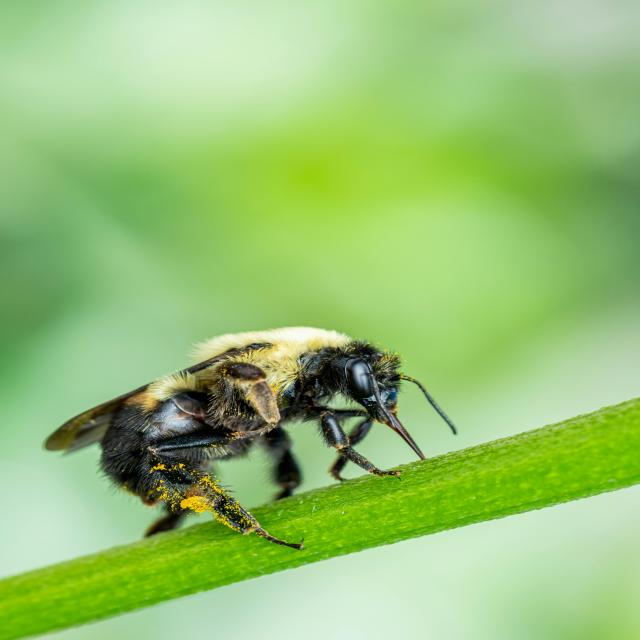bee: (27, 323, 464, 557)
